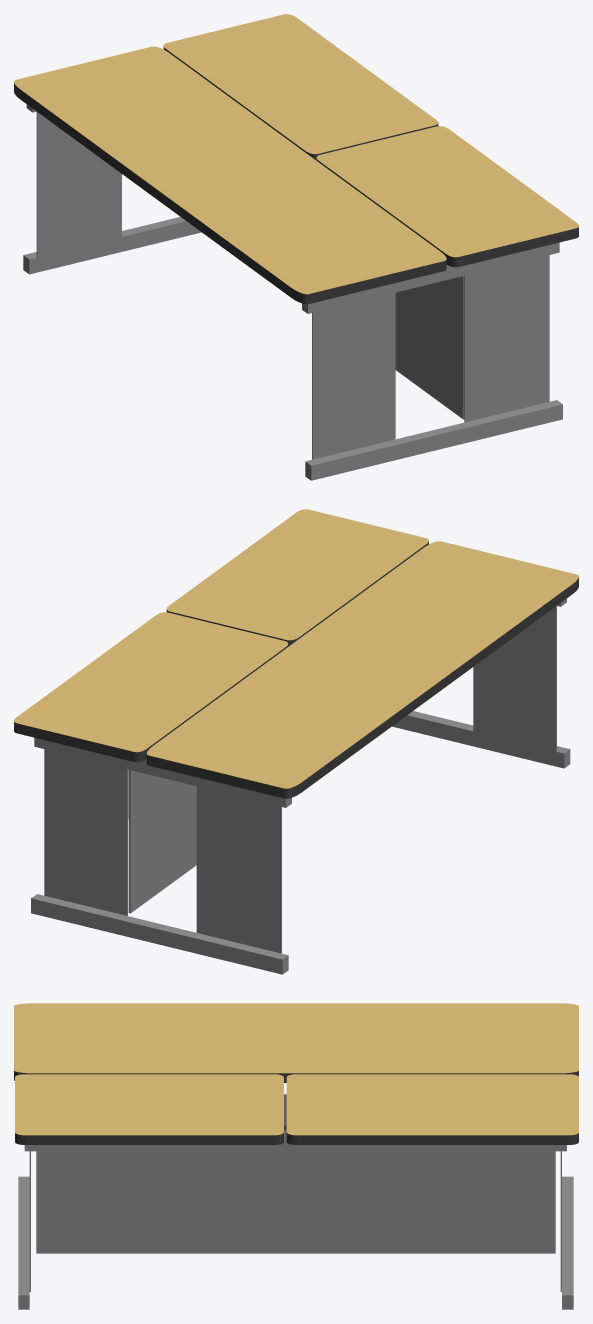
File: desk.fbx
The picture shows the model from 3 angles, top to bottom: view 1: azimuth 30°, elevation 25°; view 2: azimuth 150°, elevation 25°; view 3: azimuth 270°, elevation 25°; orthographic projection. The views are drawn at different scales.
Parts seen in each view (by area): view 1: Cube.003; view 2: Cube.003; view 3: Cube.003.
Part boxes in pixels (box(x1,y1,x2,y2)): Cube.003: box(14, 14, 578, 480); Cube.003: box(14, 509, 578, 974); Cube.003: box(14, 1003, 578, 1309).
Size of the model in its own units: 4.22 by 2.72 by 7.61.
